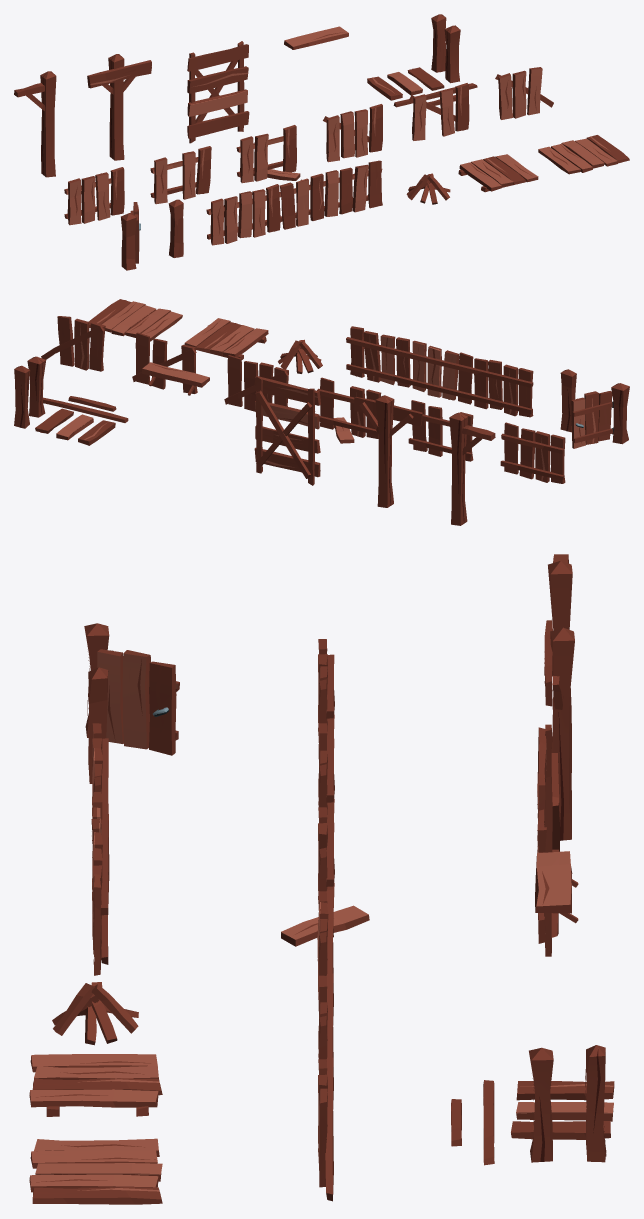
Rendered from Fence pack.fbx.
3 renders of one model, top to bottom at view 1: azimuth 30°, elevation 25°; view 2: azimuth 150°, elevation 25°; view 3: azimuth 270°, elevation 25°, orthographic. The views are drawn at different scales.
Parts seen in each view (by area): view 1: Fence_long, Wood_structure, Fence_04, Fence_01, Fence_06, Wood_high_2, Wood_board_2, Fence_05, Fence_02, Fence_03, Wood_high_1, Wood_board_1 (+8 smaller); view 2: Fence_long, Wood_structure, Fence_04, Wood_high_2, Fence_03, Wood_board_2, Fence_06, Wood_high_1, Wood_board_1, Fence_door, Fence_01, Fence_02 (+10 smaller); view 3: Wood_board_2, Wood_board_1, Fence_door, Wood_high_2, Fence_long, Wood_structure, Fence_06, fire, Shelf, Wood_large_1, Fence_enter, Wood_large_2 (+10 smaller).
Boxes of the visible parts, x1=… form: Fence_long: x1=206, y1=160, x2=382, y2=245; Wood_structure: x1=187, y1=41, x2=249, y2=143; Fence_04: x1=64, y1=167, x2=124, y2=225; Fence_01: x1=323, y1=104, x2=382, y2=162; Fence_06: x1=236, y1=125, x2=300, y2=183; Wood_high_2: x1=87, y1=54, x2=151, y2=160; Wood_board_2: x1=538, y1=135, x2=629, y2=174; Fence_05: x1=150, y1=146, x2=211, y2=204; Fence_02: x1=409, y1=83, x2=469, y2=140; Fence_03: x1=495, y1=67, x2=553, y2=119; Wood_high_1: x1=14, y1=71, x2=56, y2=177; Wood_board_1: x1=458, y1=154, x2=538, y2=192; Fence_long: x1=346, y1=326, x2=533, y2=417; Wood_structure: x1=254, y1=376, x2=320, y2=485; Fence_04: x1=500, y1=422, x2=565, y2=483; Wood_high_2: x1=354, y1=395, x2=422, y2=507; Fence_03: x1=41, y1=316, x2=105, y2=371; Wood_board_2: x1=88, y1=299, x2=182, y2=341; Fence_06: x1=317, y1=377, x2=381, y2=443; Wood_high_1: x1=449, y1=412, x2=495, y2=525; Wood_board_1: x1=184, y1=318, x2=268, y2=359; Fence_door: x1=571, y1=391, x2=612, y2=448; Fence_01: x1=224, y1=355, x2=288, y2=411; Fence_02: x1=132, y1=332, x2=197, y2=393; Wood_board_2: x1=29, y1=1138, x2=162, y2=1204; Wood_board_1: x1=29, y1=1054, x2=162, y2=1116; Fence_door: x1=97, y1=649, x2=179, y2=755; Wood_high_2: x1=544, y1=620, x2=574, y2=840; Fence_long: x1=91, y1=723, x2=109, y2=975; Wood_structure: x1=537, y1=724, x2=559, y2=956; Fence_06: x1=281, y1=807, x2=369, y2=946; fire: x1=52, y1=982, x2=138, y2=1045; Shelf: x1=535, y1=851, x2=578, y2=923; Wood_large_1: x1=529, y1=1047, x2=553, y2=1162; Fence_enter: x1=84, y1=623, x2=109, y2=783; Wood_large_2: x1=585, y1=1045, x2=606, y2=1162.
Size of the model in its own units: 8.54 by 1.75 by 4.41.
Materials: 1 (1 with a texture image).
